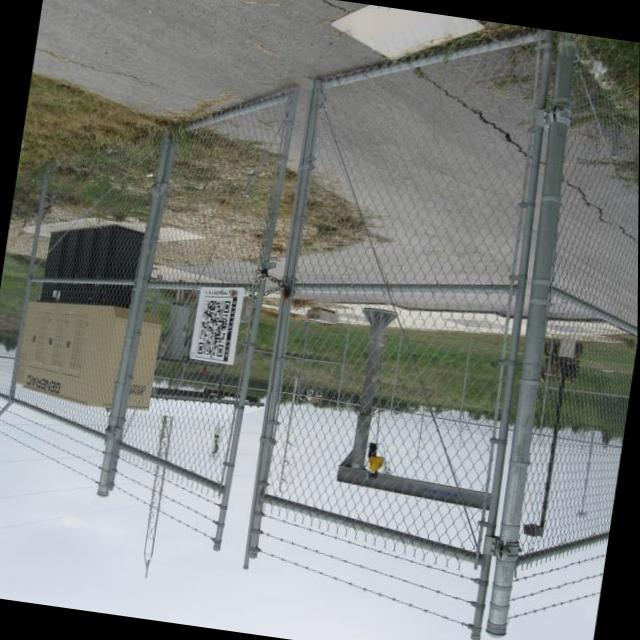qrcode: (199, 298, 231, 357)
